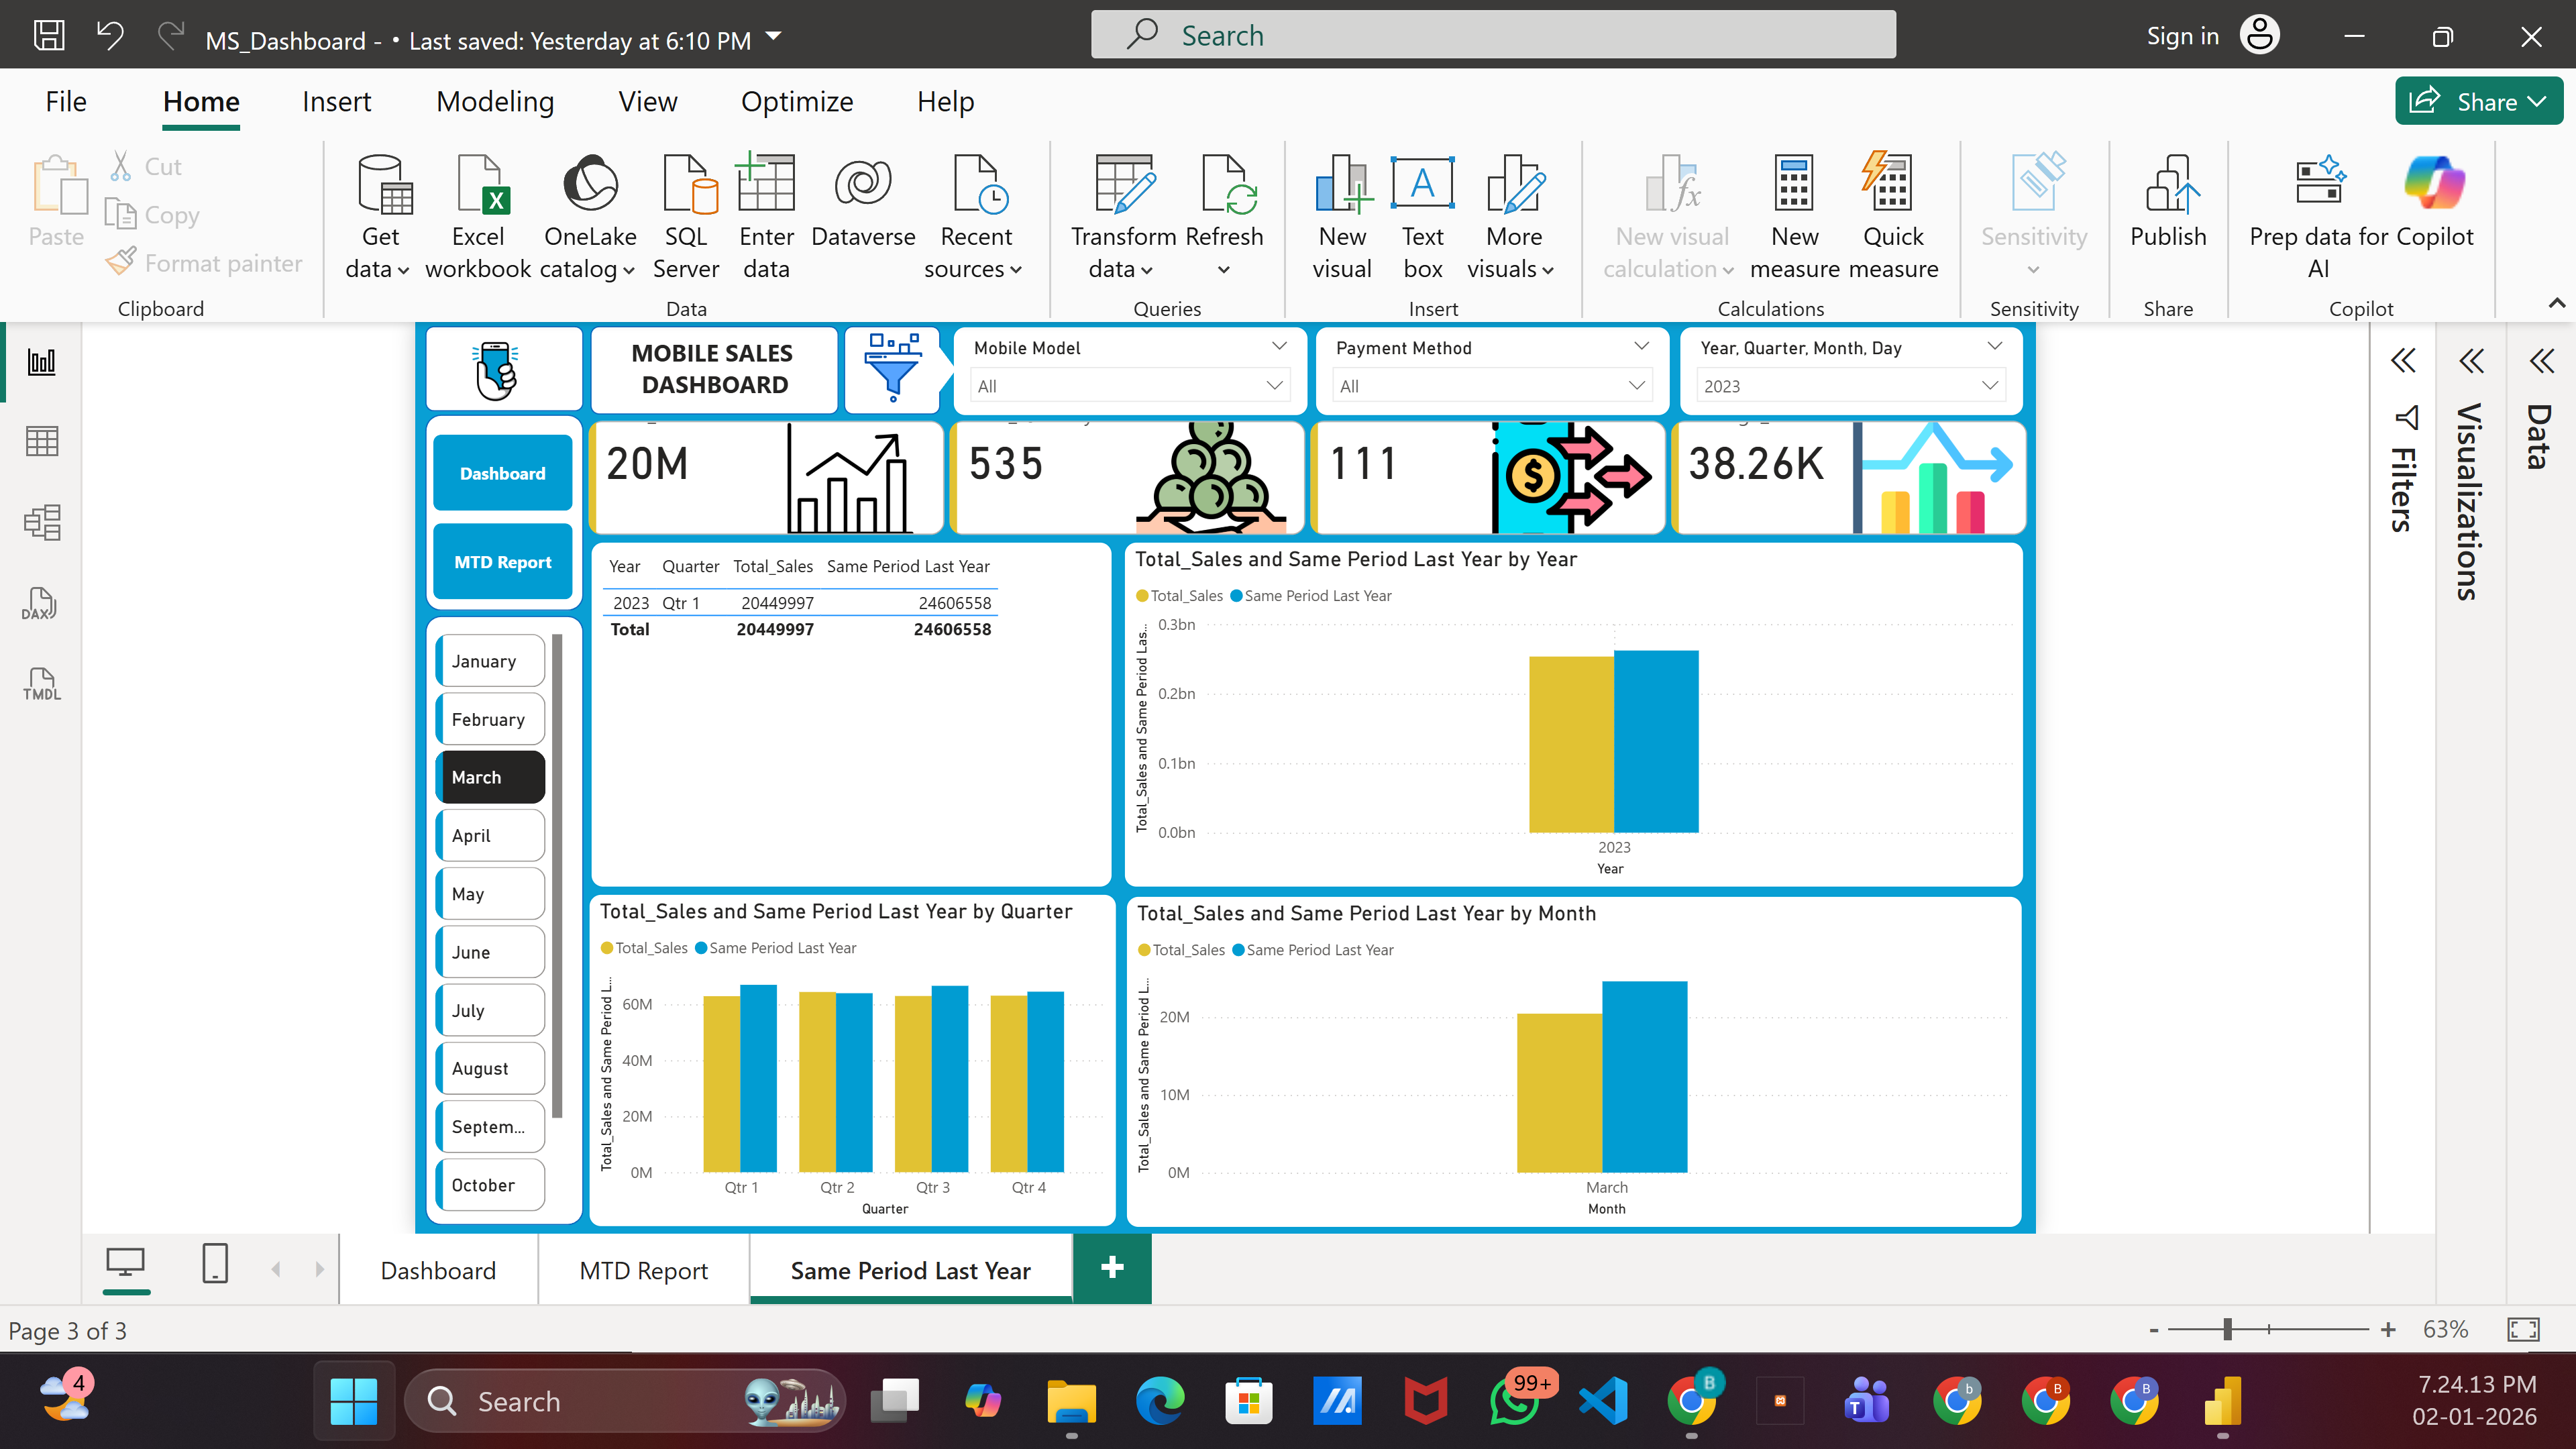

What the dashboard file says about the page in this screenshot:
{"tool":"powerbi","page":{"name":"Same Period Last Year","canvas":[1280,720],"ordinal":2},"visuals":[{"type":"shape","box":[7.5,3.8,125,67.5],"z":0},{"type":"image","box":[23.8,3.8,78.8,71.2],"z":1000},{"type":"shape","box":[7.5,73.8,125,155],"z":2000},{"type":"cardVisual","fields":{"Data":["Sales_Data.Total_Sales","Sales_Data.Total_Quantity","Sales_Data.Transactions","Sales_Data.Average_Price"]},"box":[132.5,73.8,1147.5,100],"z":3000},{"type":"slicer","fields":{"Values":["Sales_Data.Mobile Model"]},"box":[423.8,3.8,281.2,71.2],"z":4000},{"type":"slicer","fields":{"Values":["Sales_Data.Payment Method"]},"box":[710,3.8,281.2,71.2],"z":5000},{"type":"slicer","fields":{"Values":["Custom_Calendar.Date.Variation.Date Hierarchy.Year","Custom_Calendar.Date.Variation.Date Hierarchy.Quarter","Custom_Calendar.Date.Variation.Date Hierarchy.Month","Custom_Calendar.Date.Variation.Date Hierarchy.Day"]},"box":[997.5,3.8,272.5,71.2],"z":6000},{"type":"shape","box":[338.8,3.8,76.2,70],"z":7000},{"type":"image","box":[337.5,3.8,81.2,66.2],"z":8000},{"type":"shape","box":[397.5,17.5,30,40],"z":9000},{"type":"shape","box":[137.5,3.8,196.2,70],"z":10000},{"type":"textbox","box":[156.2,6.2,162.5,63.8],"z":11000},{"type":"shape","box":[7.5,232.5,125,481.2],"z":12000},{"type":"advancedSlicerVisual","fields":{"Values":["Custom_Calendar.Date.Variation.Date Hierarchy.Month"]},"box":[11.2,241.2,110,472.5],"z":13000},{"type":"tableEx","fields":{"Values":["Custom_Calendar.Date.Variation.Date Hierarchy.Year","Custom_Calendar.Date.Variation.Date Hierarchy.Quarter","Sales_Data.Total_Sales","Sales_Data.Same Period Last Year"]},"box":[137.5,173.8,412.5,273.8],"z":14000},{"type":"clusteredColumnChart","fields":{"Category":["Custom_Calendar.Date.Variation.Date Hierarchy.Year","Custom_Calendar.Date.Variation.Date Hierarchy.Quarter"],"Y":["Sales_Data.Total_Sales","Sales_Data.Same Period Last Year"]},"box":[558.8,173.8,711.2,273.8],"z":15000},{"type":"clusteredColumnChart","fields":{"Y":["Sales_Data.Total_Sales","Sales_Data.Same Period Last Year"],"Category":["Custom_Calendar.Date.Variation.Date Hierarchy.Year","Custom_Calendar.Date.Variation.Date Hierarchy.Quarter","Custom_Calendar.Date.Variation.Date Hierarchy.Month","Custom_Calendar.Date.Variation.Date Hierarchy.Day"]},"box":[561.2,452.5,708.8,262.5],"z":16000},{"type":"clusteredColumnChart","fields":{"Category":["Custom_Calendar.Date.Variation.Date Hierarchy.Year","Custom_Calendar.Date.Variation.Date Hierarchy.Quarter"],"Y":["Sales_Data.Total_Sales","Sales_Data.Same Period Last Year"]},"box":[136.2,451.2,417.5,263.8],"z":17000},{"type":"pageNavigator","box":[15,88.8,110,130],"z":18000}]}

Visuals, with their boxes on the page's 1280x720 design canvas (x1, y1, x2, y2). These are canvas units, not pixel positions in the 2576x1449 screenshot, which may show the page scaled, cropped or inside an application window:
shape: (left=8, top=4, right=132, bottom=71)
image: (left=24, top=4, right=103, bottom=75)
shape: (left=8, top=74, right=132, bottom=229)
cardVisual - Sales_Data.Total_Sales x Sales_Data.Total_Quantity: (left=132, top=74, right=1280, bottom=174)
slicer - Sales_Data.Mobile Model: (left=424, top=4, right=705, bottom=75)
slicer - Sales_Data.Payment Method: (left=710, top=4, right=991, bottom=75)
slicer - Custom_Calendar.Date.Variation.Date Hierarchy.Year x Custom_Calendar.Date.Variation.Date Hierarchy.Quarter: (left=998, top=4, right=1270, bottom=75)
shape: (left=339, top=4, right=415, bottom=74)
image: (left=338, top=4, right=419, bottom=70)
shape: (left=398, top=18, right=428, bottom=58)
shape: (left=138, top=4, right=334, bottom=74)
textbox: (left=156, top=6, right=319, bottom=70)
shape: (left=8, top=232, right=132, bottom=714)
advancedSlicerVisual - Custom_Calendar.Date.Variation.Date Hierarchy.Month: (left=11, top=241, right=121, bottom=714)
tableEx - Custom_Calendar.Date.Variation.Date Hierarchy.Year x Custom_Calendar.Date.Variation.Date Hierarchy.Quarter: (left=138, top=174, right=550, bottom=448)
clusteredColumnChart - Custom_Calendar.Date.Variation.Date Hierarchy.Year x Custom_Calendar.Date.Variation.Date Hierarchy.Quarter: (left=559, top=174, right=1270, bottom=448)
clusteredColumnChart - Sales_Data.Total_Sales x Sales_Data.Same Period Last Year: (left=561, top=452, right=1270, bottom=715)
clusteredColumnChart - Custom_Calendar.Date.Variation.Date Hierarchy.Year x Custom_Calendar.Date.Variation.Date Hierarchy.Quarter: (left=136, top=451, right=554, bottom=715)
pageNavigator: (left=15, top=89, right=125, bottom=219)
